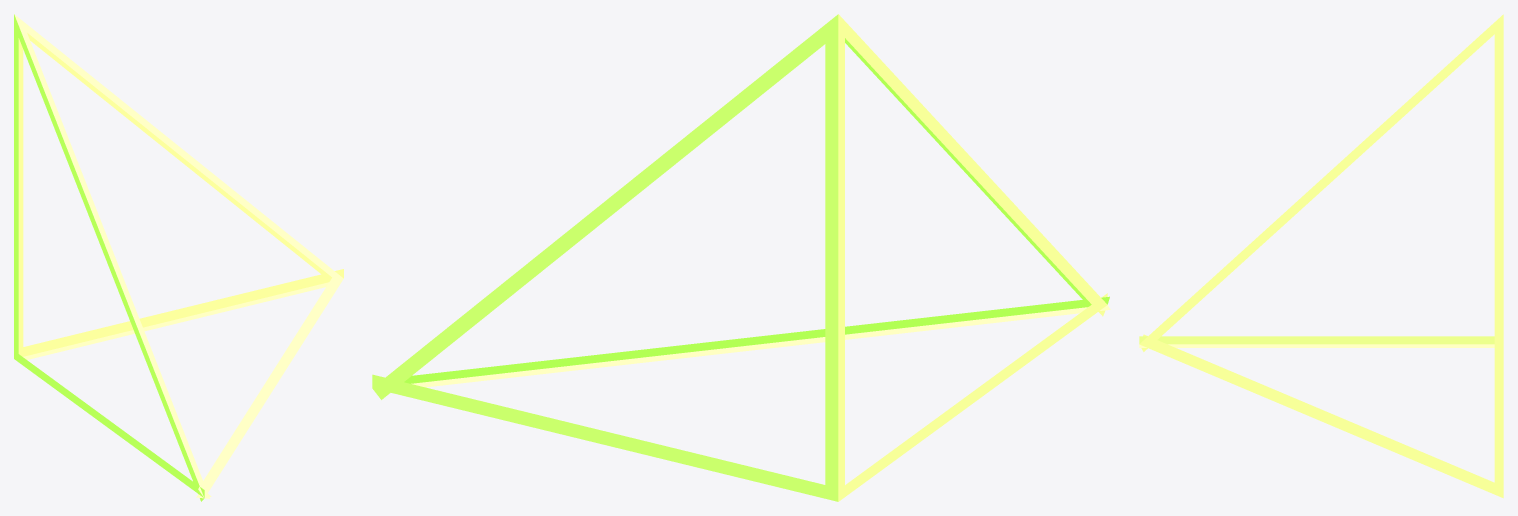
The model's file is r6c7_highlight_green.glb.
3 views of the same model, side by side, from view 1: azimuth 30°, elevation 25°; view 2: azimuth 150°, elevation 25°; view 3: azimuth 270°, elevation 25° (orthographic). The views are drawn at different scales.
Parts seen in each view (by area): view 1: r6c7_highlight_green; view 2: r6c7_highlight_green; view 3: r6c7_highlight_green.
Boxes of the visible parts, bbox=[...] form: r6c7_highlight_green: bbox=[14, 14, 343, 501]; r6c7_highlight_green: bbox=[372, 14, 1110, 501]; r6c7_highlight_green: bbox=[1139, 14, 1503, 498].
Size of the model in its own units: 1.02 by 1.02 by 1.
